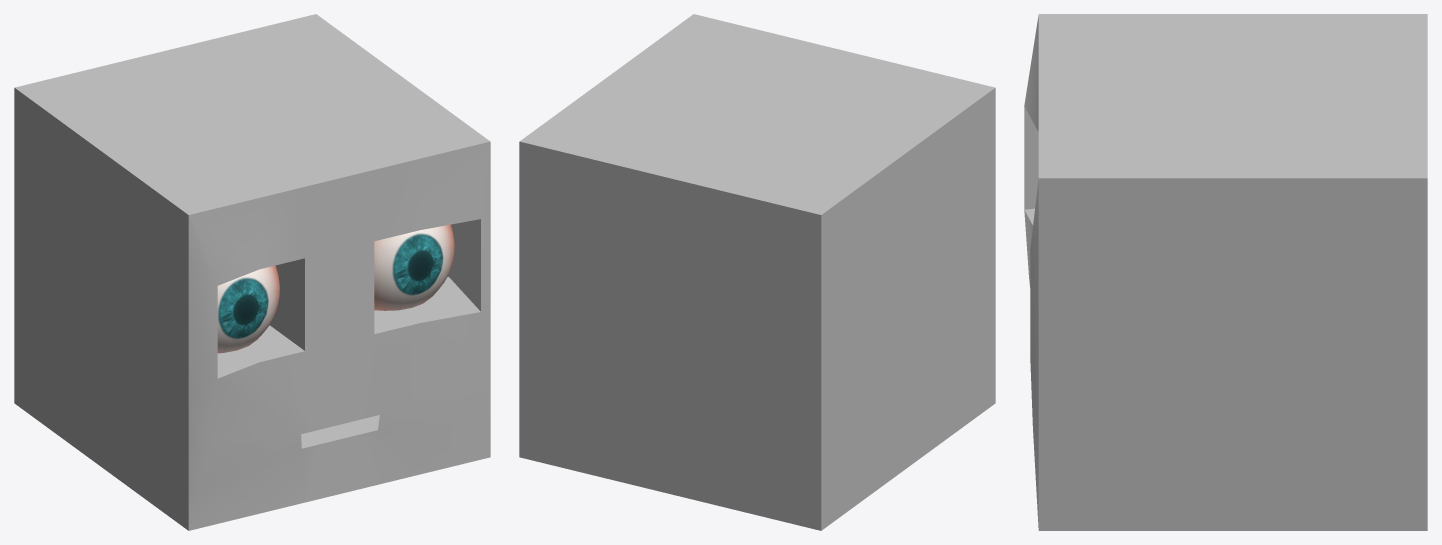
3 views of the same model, side by side, from view 1: azimuth 30°, elevation 25°; view 2: azimuth 150°, elevation 25°; view 3: azimuth 270°, elevation 25° (orthographic). The views are drawn at different scales.
Parts seen in each view (by area): view 1: Body, Eye2, Eye1; view 2: Body; view 3: Body.
Part boxes in pixels (x1,y1,x2,y2): Body: (14,14,490,530); Eye2: (374,224,454,310); Eye1: (217,265,279,353); Body: (519,14,995,530); Body: (1024,14,1427,530).
Size of the model in its own units: 200 by 200 by 207.
3 materials, 2 textured.
